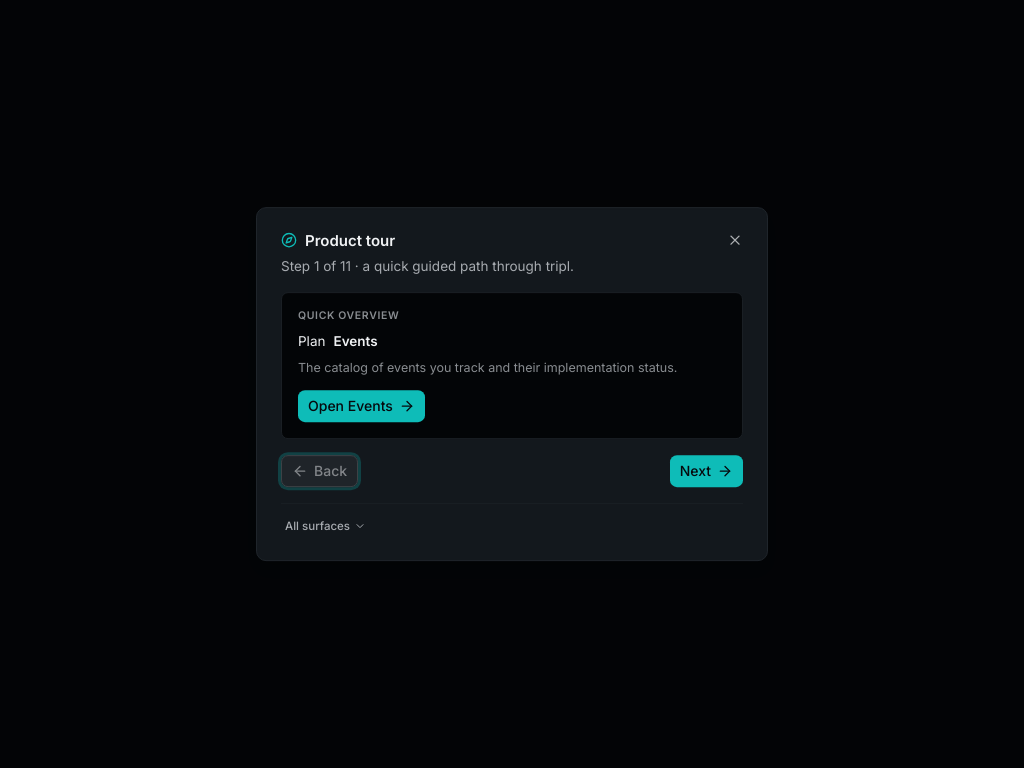
it: ProductTour — the surface index › keeps the index behind a disclosure until asked for
Expected: the link "Scans" is not shown
Click the button "All surfaces".
click(326, 526)  # box [281, 516, 370, 536]
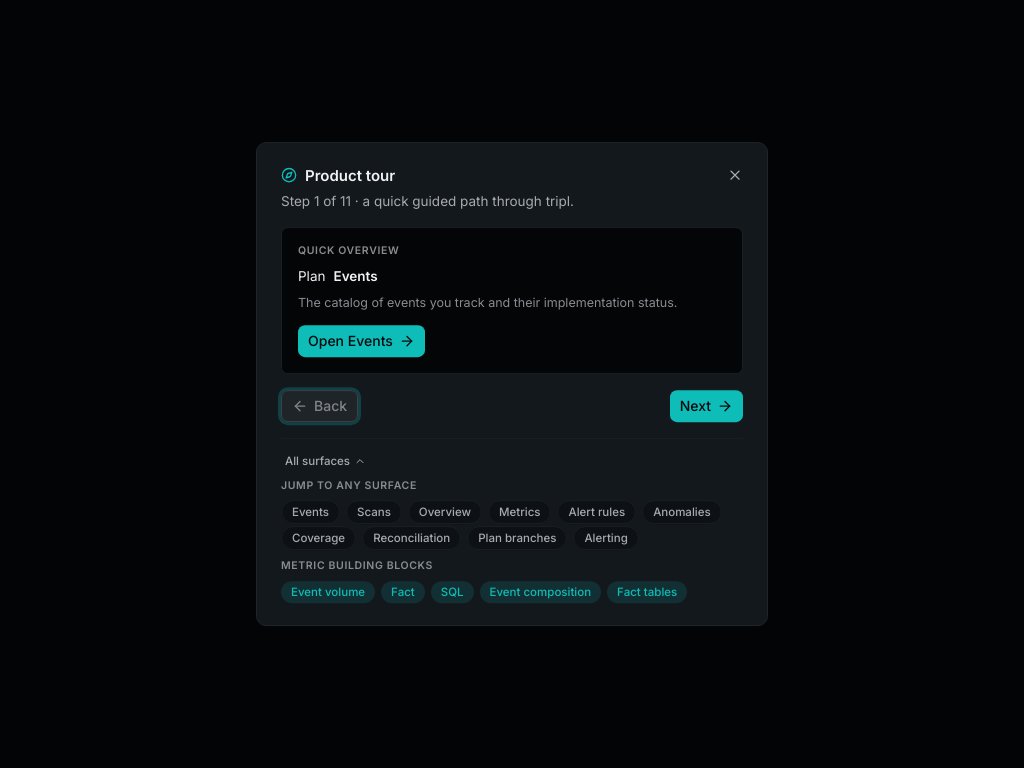
Expected: the button "All surfaces" is expanded, [281, 451, 370, 471]
Expected: the link "Scans" is shown, [346, 500, 402, 524]
